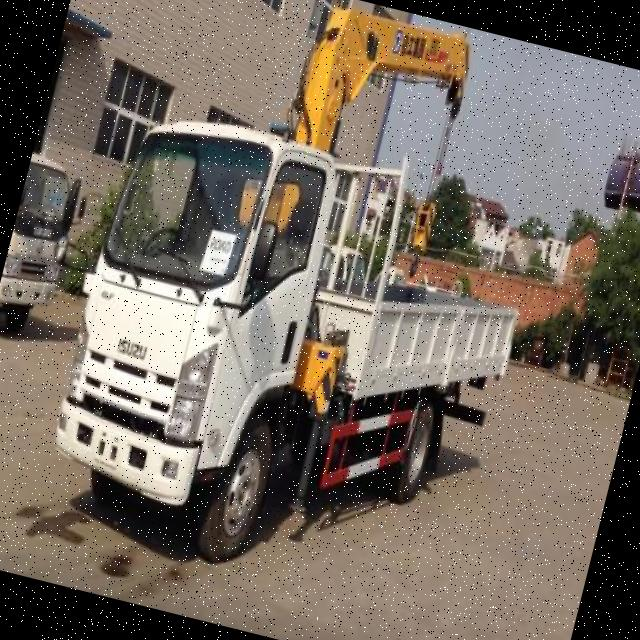Mobile Crane: (32, 0, 581, 615)
